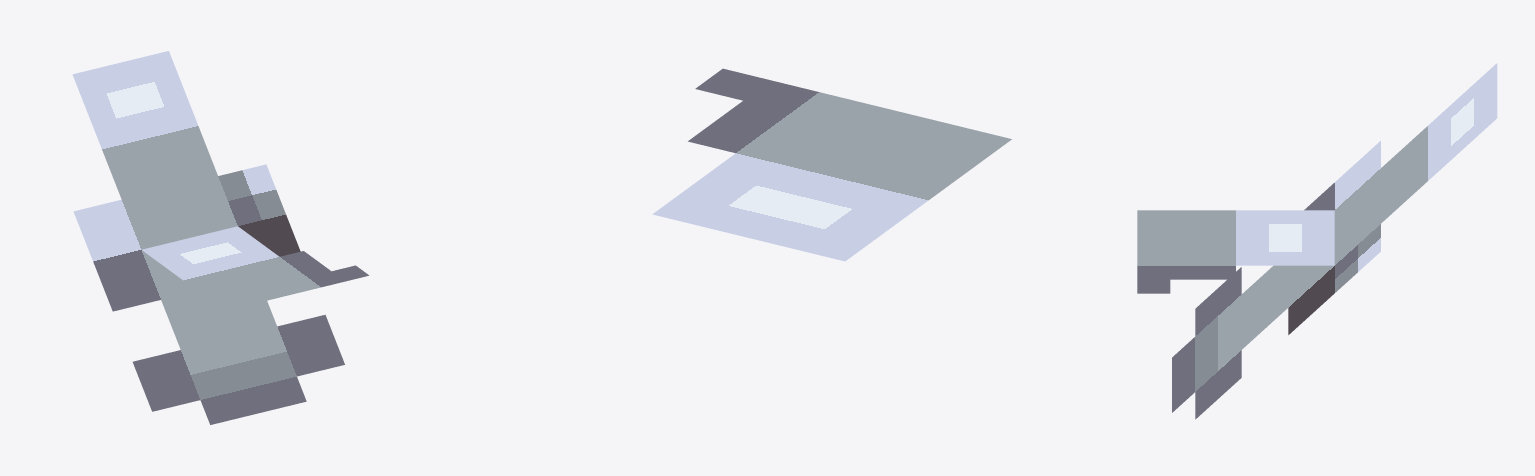
3 renders of one model, left to right at view 1: azimuth 30°, elevation 25°; view 2: azimuth 150°, elevation 25°; view 3: azimuth 270°, elevation 25°, orthographic. The views are drawn at different scales.
Bounding box in the file's own units: 0.5 × 0.707 × 0.7285.
Materials: 1 (1 with a texture image).
